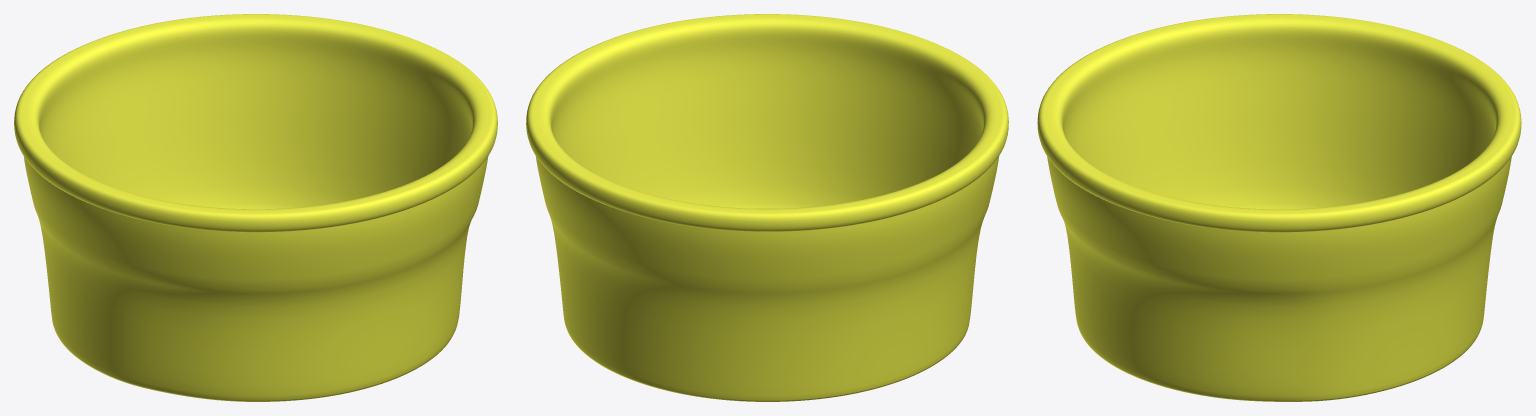
The model's file is Tub.glb.
3 renders of one model, left to right at view 1: azimuth 30°, elevation 25°; view 2: azimuth 150°, elevation 25°; view 3: azimuth 270°, elevation 25°, orthographic.
Parts seen in each view (by area): view 1: Cylinder; view 2: Cylinder; view 3: Cylinder.
Boxes of the visible parts, x1,y1,x2,y2 form: Cylinder: [14, 14, 497, 401]; Cylinder: [526, 14, 1008, 401]; Cylinder: [1037, 14, 1521, 401].
Bounding box in the file's own units: 2.13 × 0.9852 × 2.13.
